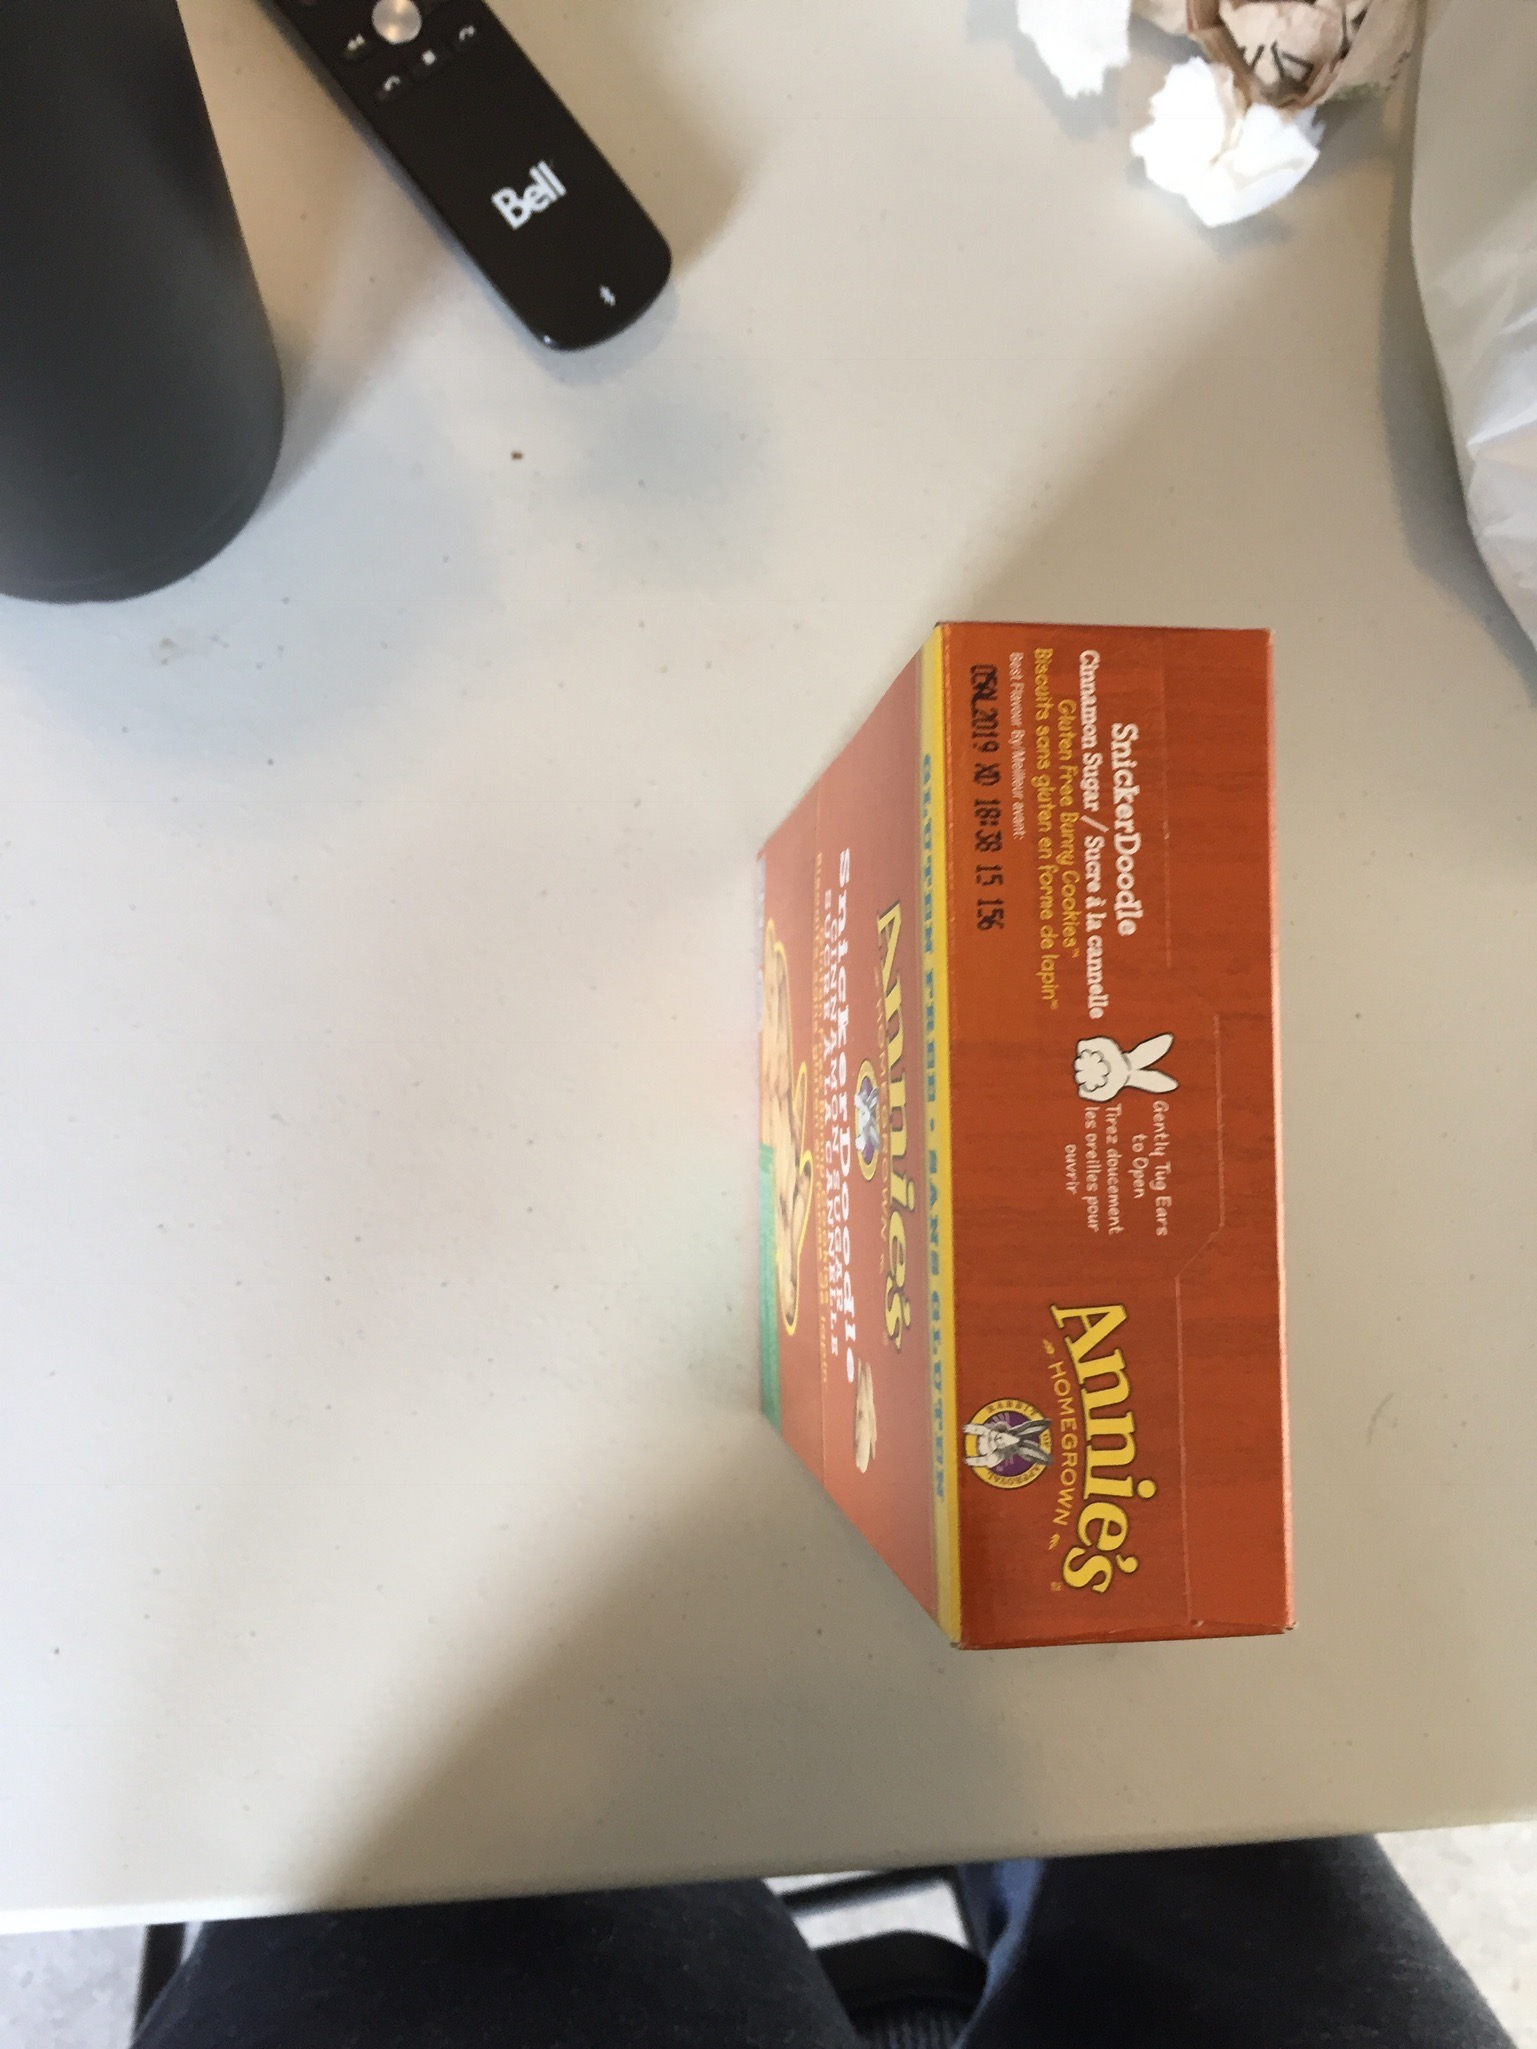\: (957, 630, 1274, 1628)
annies_snickerdoodle_cinnamon_sugar: (946, 633, 1279, 1632)
